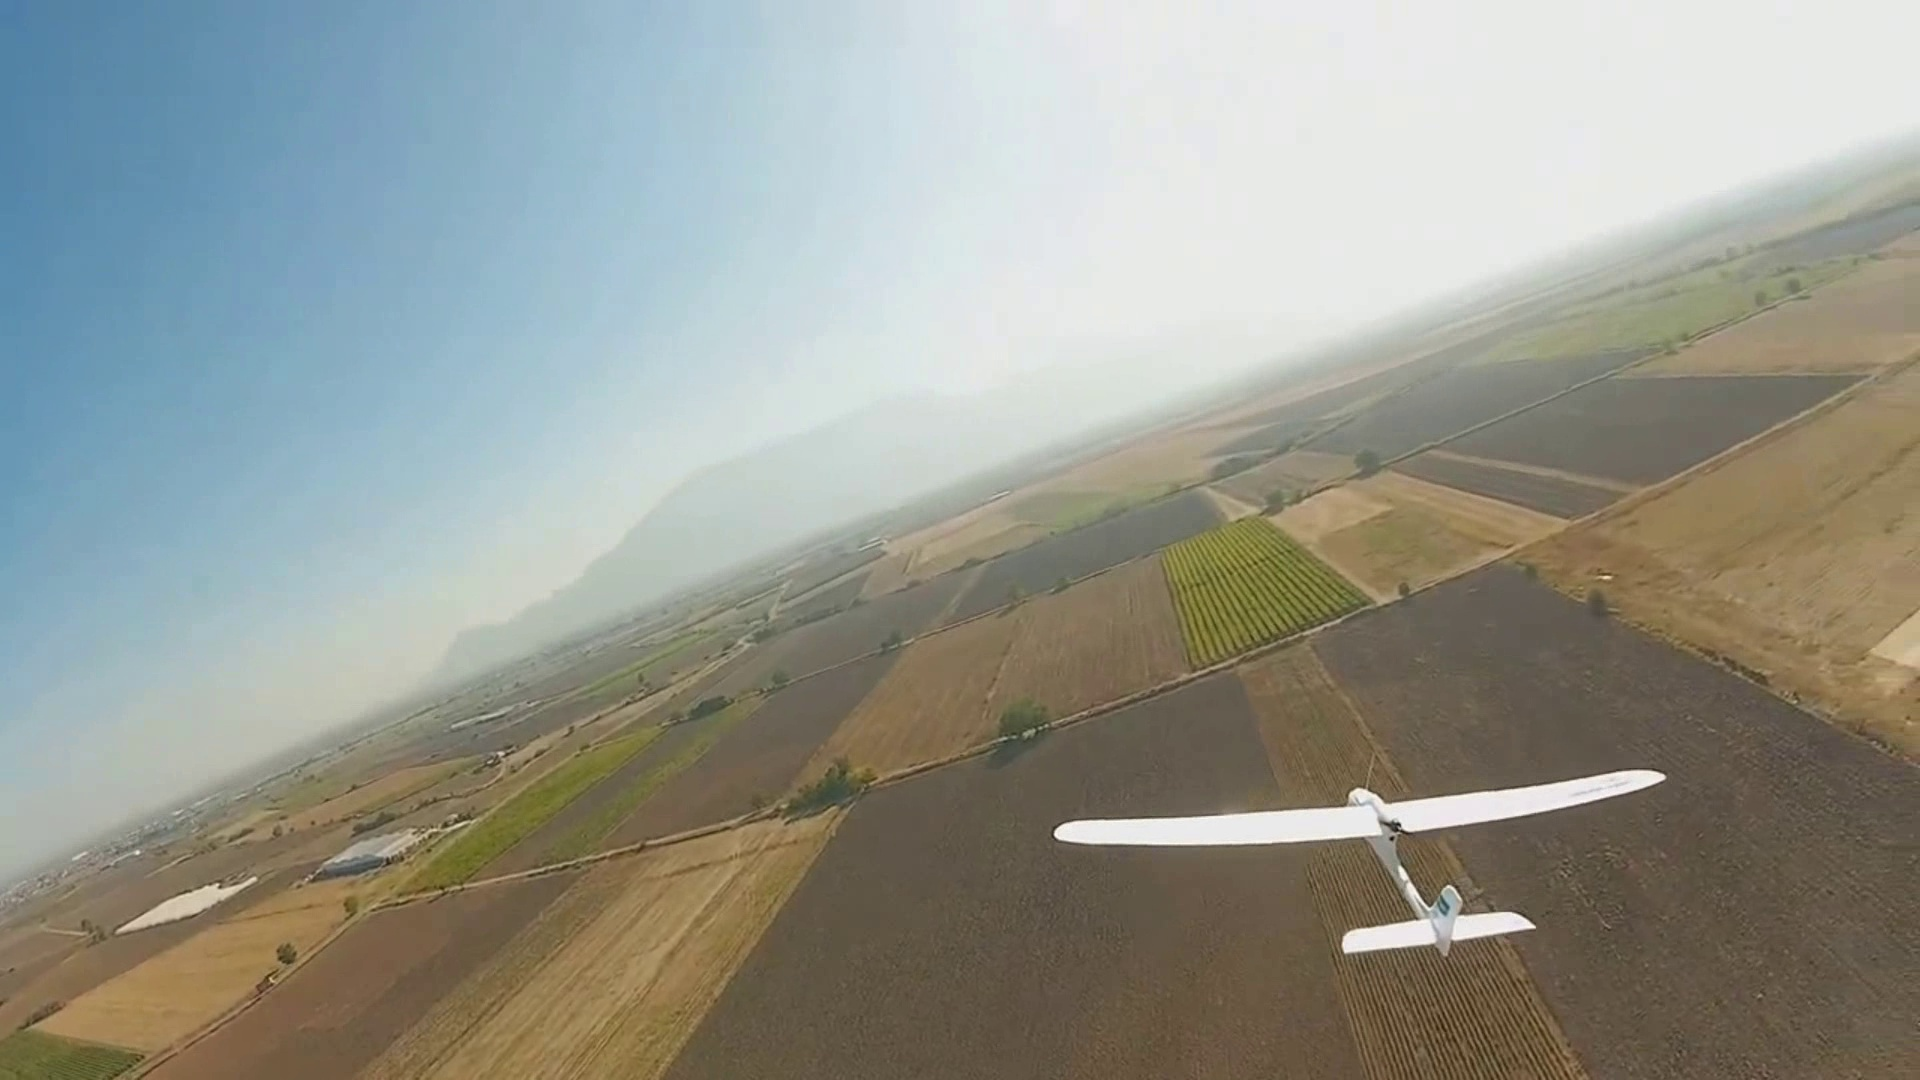airplane: (1052, 774, 1658, 953)
